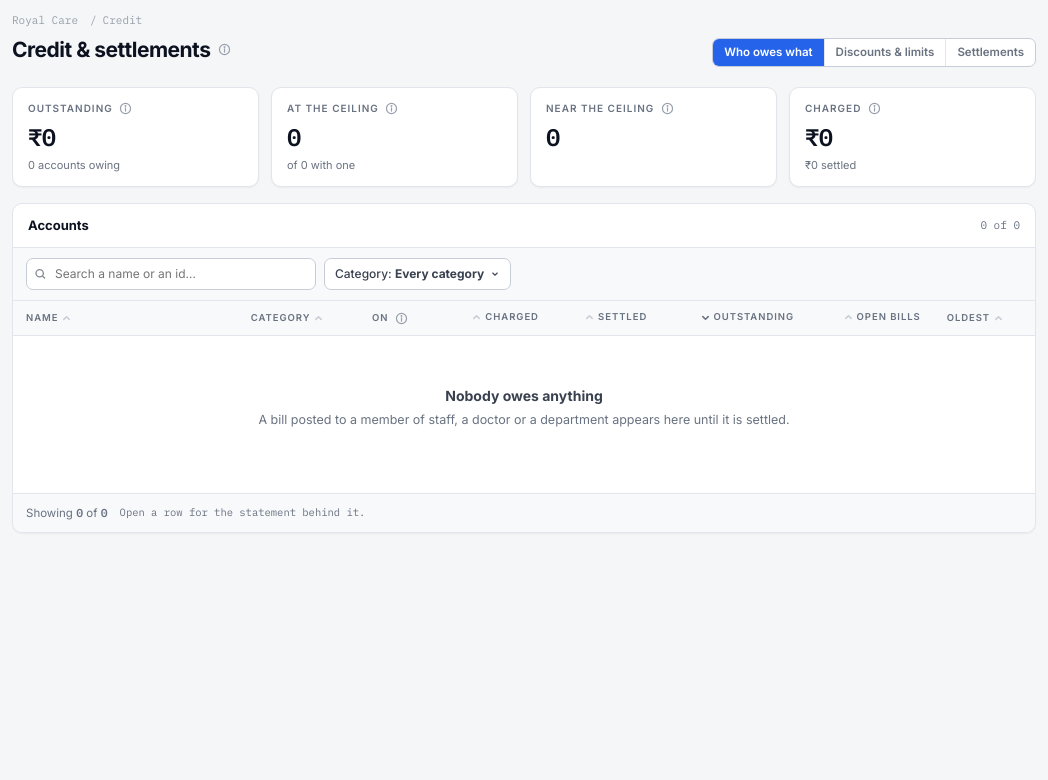
Scenario: void_settlement gates the settlement's Void › is not offered to one that does not, even with Receivables & settlements at edit
Click the button "Settlements": (991, 52) x1=946 y1=38 x2=1035 y2=66
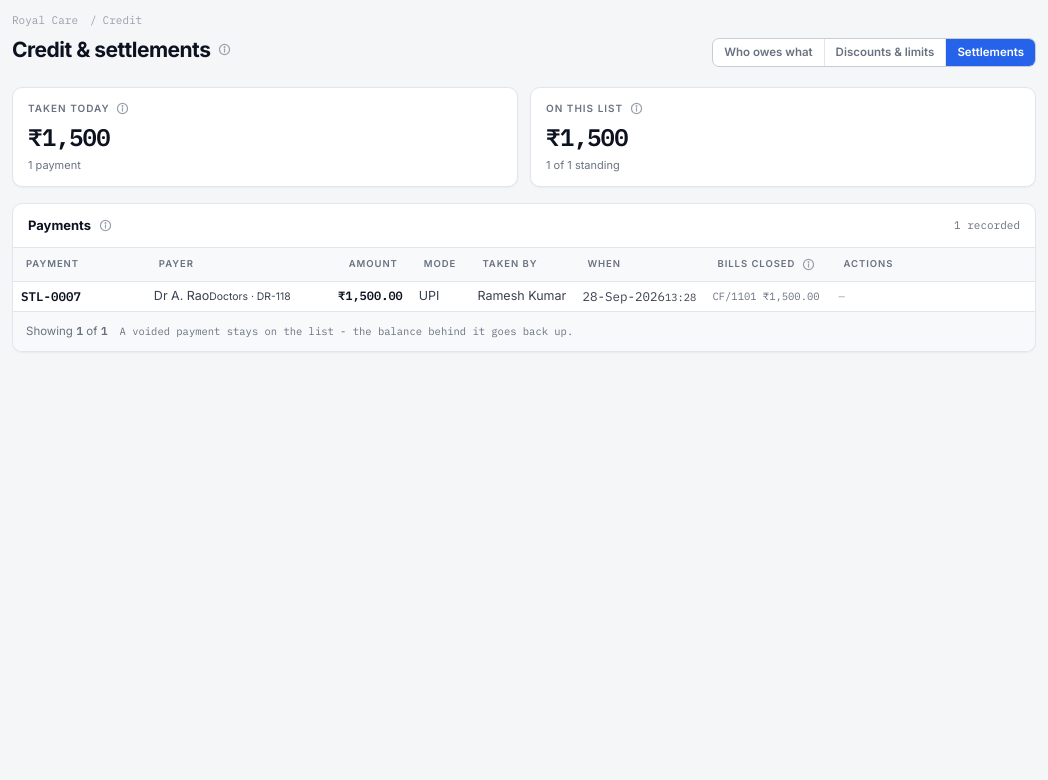
Expected: the text "STL-0007" is shown, x1=21 y1=288 x2=81 y2=304
